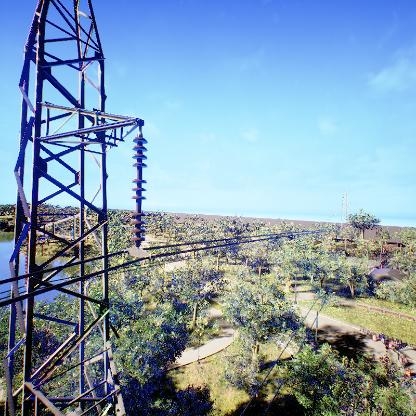insulator: (128, 134, 151, 247)
